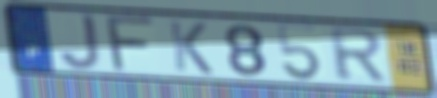5: (274, 21, 325, 83)
8: (223, 23, 270, 77)
F: (105, 15, 160, 74)
J: (58, 13, 103, 72)
K: (166, 18, 216, 77)
R: (326, 27, 389, 83)
